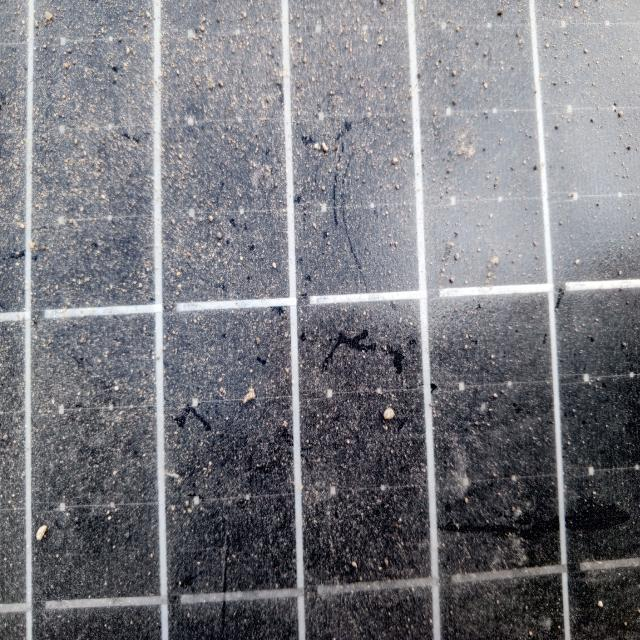Anomaly Solar Panel: (17, 20, 639, 639)
Surface Contaminant: (175, 222, 639, 639)
